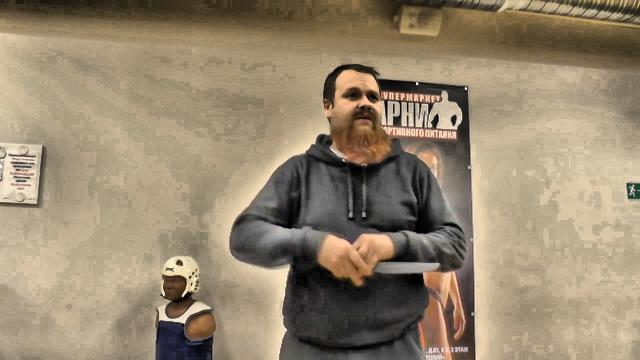knife: (328, 242, 442, 286)
